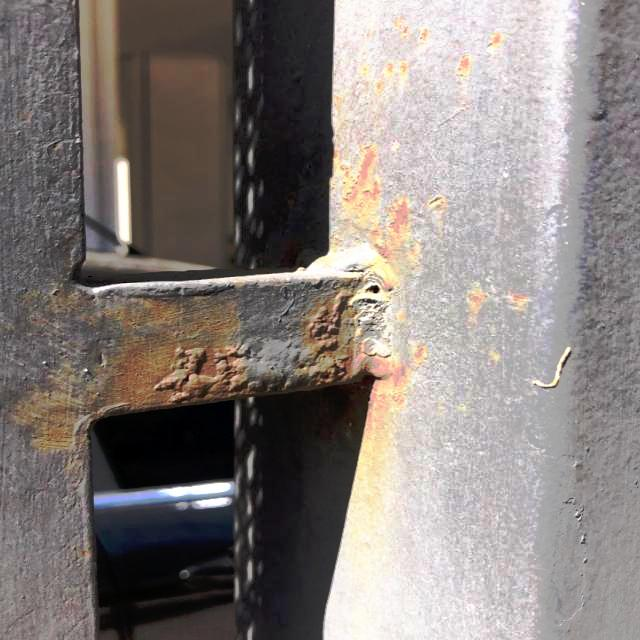Corrosion: (304, 275, 393, 388), (154, 345, 248, 404), (336, 144, 381, 218), (389, 198, 410, 244)
